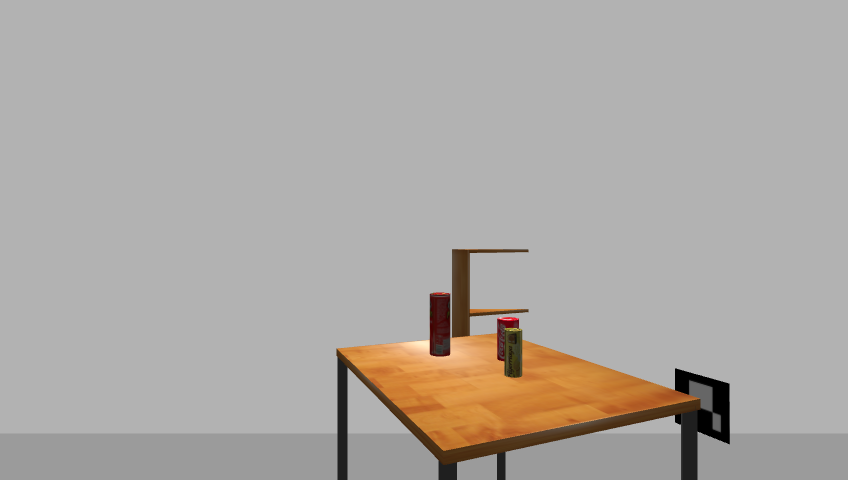aruco marker: (670, 367, 735, 445)
biscuits pack: (504, 329, 523, 379)
bookshelf: (449, 245, 533, 366)
coke can: (495, 317, 520, 362)
dinner table: (328, 332, 706, 480)
pringles can: (428, 292, 452, 358)
